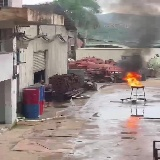fire: (123, 72, 144, 86)
